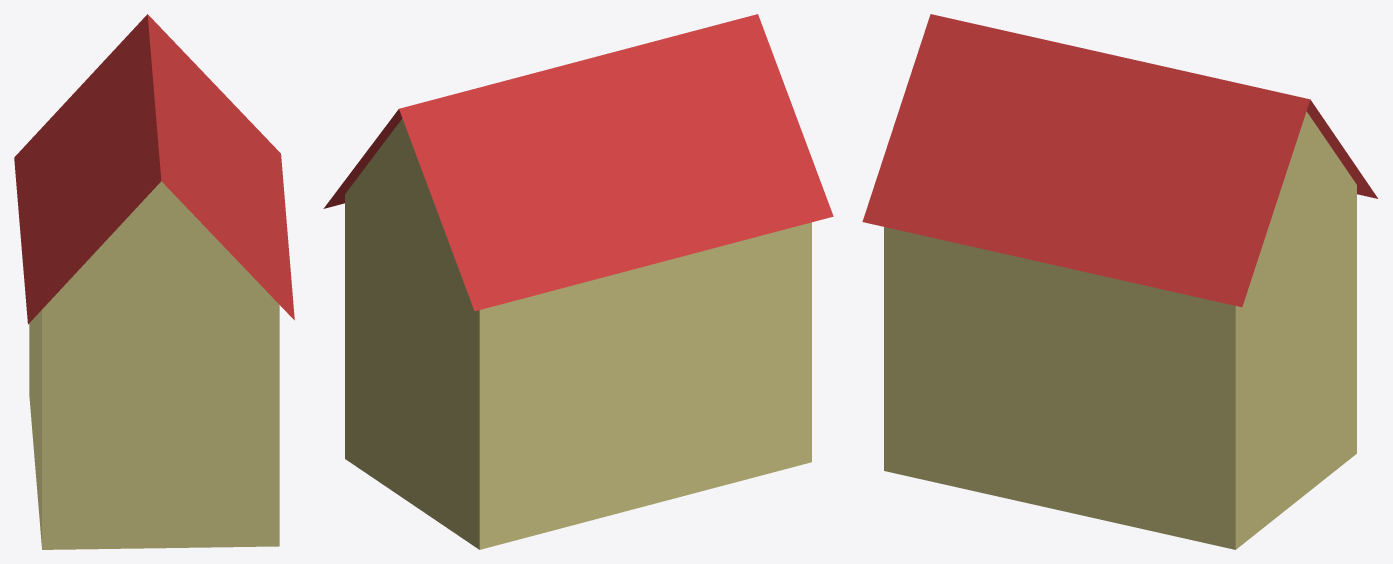
3 views of the same model, side by side, from view 1: azimuth 30°, elevation 25°; view 2: azimuth 150°, elevation 25°; view 3: azimuth 270°, elevation 25° (orthographic). The views are drawn at different scales.
Parts seen in each view (by area): view 1: group_5, group_3, group_4; view 2: group_5, group_3, group_4; view 3: group_5, group_3, group_4.
Part boxes in pixels (x1,y1,x2,y2): group_5: (29, 181, 279, 549); group_3: (14, 14, 294, 322); group_4: (28, 15, 250, 324); group_5: (345, 118, 811, 549); group_3: (399, 14, 832, 311); group_4: (323, 15, 833, 302); group_5: (884, 111, 1356, 549); group_3: (862, 16, 1310, 307); group_4: (899, 14, 1377, 198).
Size of the model in its own units: 21.55 by 24.27 by 21.05.
